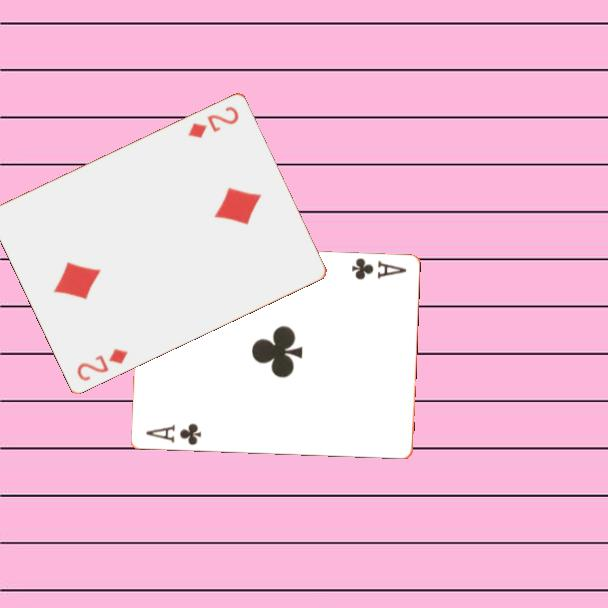c01: (142, 420, 204, 448), (348, 255, 409, 283)
d02: (73, 344, 131, 384), (185, 102, 242, 140)
